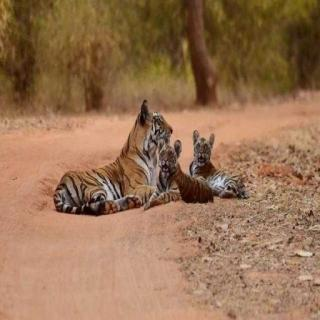Tiger: (56, 85, 167, 238), (184, 115, 236, 210)
